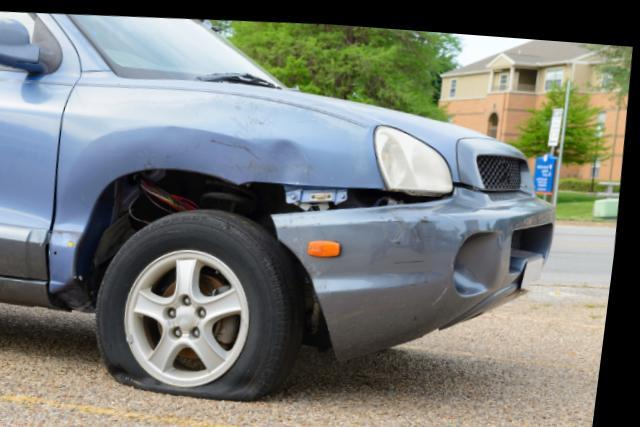dent: (274, 136, 309, 180)
dislocated part: (242, 175, 559, 361)
scratch: (381, 200, 439, 287), (218, 91, 271, 174)
tire flat: (104, 207, 310, 399)
